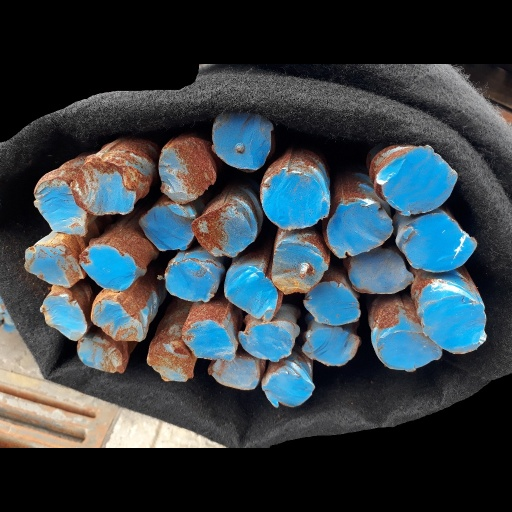dipstick: (376, 149, 458, 215), (419, 282, 487, 354), (401, 213, 477, 272), (262, 168, 326, 232), (326, 201, 393, 259), (211, 109, 272, 171), (157, 138, 215, 203), (189, 207, 254, 259), (78, 163, 136, 216), (347, 250, 415, 295), (34, 181, 88, 237), (272, 241, 327, 295), (223, 266, 278, 319), (78, 243, 137, 292), (138, 202, 195, 251), (304, 280, 360, 327), (375, 331, 441, 370), (302, 325, 359, 367), (22, 244, 74, 290), (182, 318, 236, 362), (91, 299, 145, 343), (261, 366, 315, 409), (240, 321, 293, 363), (40, 296, 86, 341), (148, 338, 192, 384), (165, 263, 215, 303), (73, 336, 124, 373), (210, 355, 259, 390)
